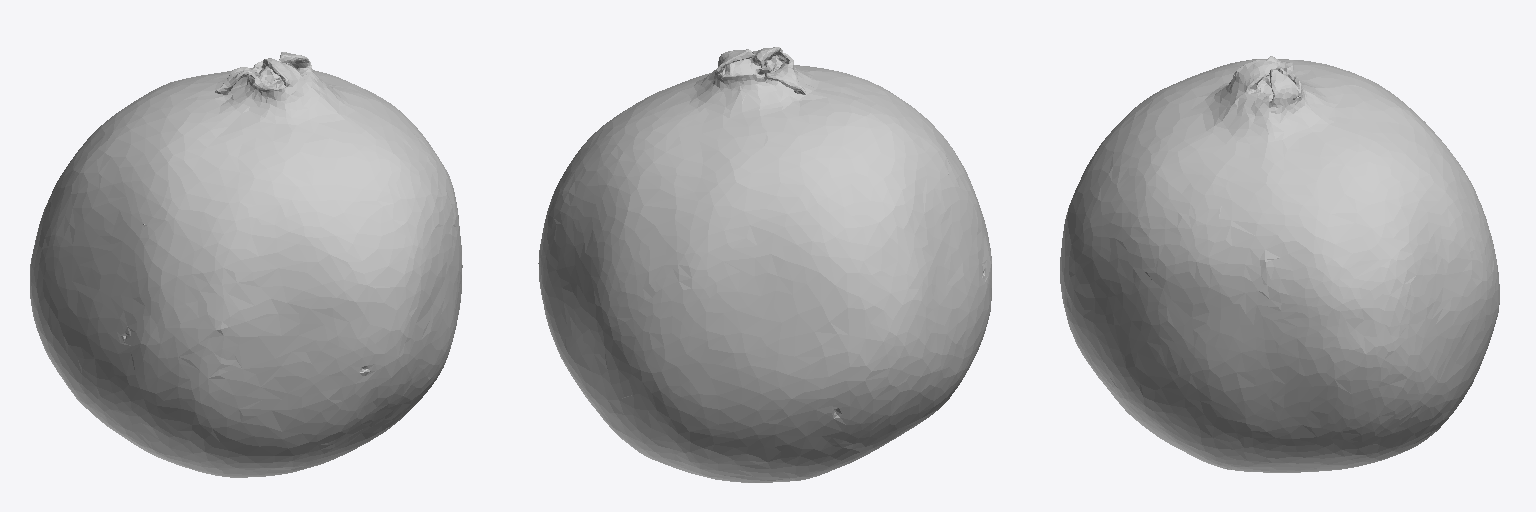
File: pomgranate.obj
3 views of the same model, side by side, from view 1: azimuth 30°, elevation 25°; view 2: azimuth 150°, elevation 25°; view 3: azimuth 270°, elevation 25° (orthographic).
Parts seen in each view (by area): view 1: food_pomegranate_01_pomegranate_50k_uv.001; view 2: food_pomegranate_01_pomegranate_50k_uv.001; view 3: food_pomegranate_01_pomegranate_50k_uv.001.
Part boxes in pixels (left/top/right/bottom): food_pomegranate_01_pomegranate_50k_uv.001: left=30, top=52, right=462, bottom=477; food_pomegranate_01_pomegranate_50k_uv.001: left=538, top=47, right=991, bottom=482; food_pomegranate_01_pomegranate_50k_uv.001: left=1060, top=56, right=1499, bottom=472.
Bounding box in the file's own units: 0.2118 × 0.2131 × 0.2138.